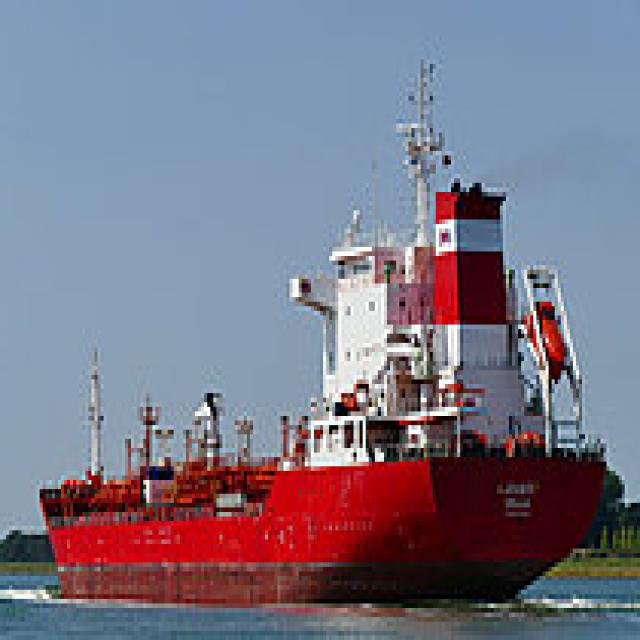Tanker: (40, 50, 612, 599)
